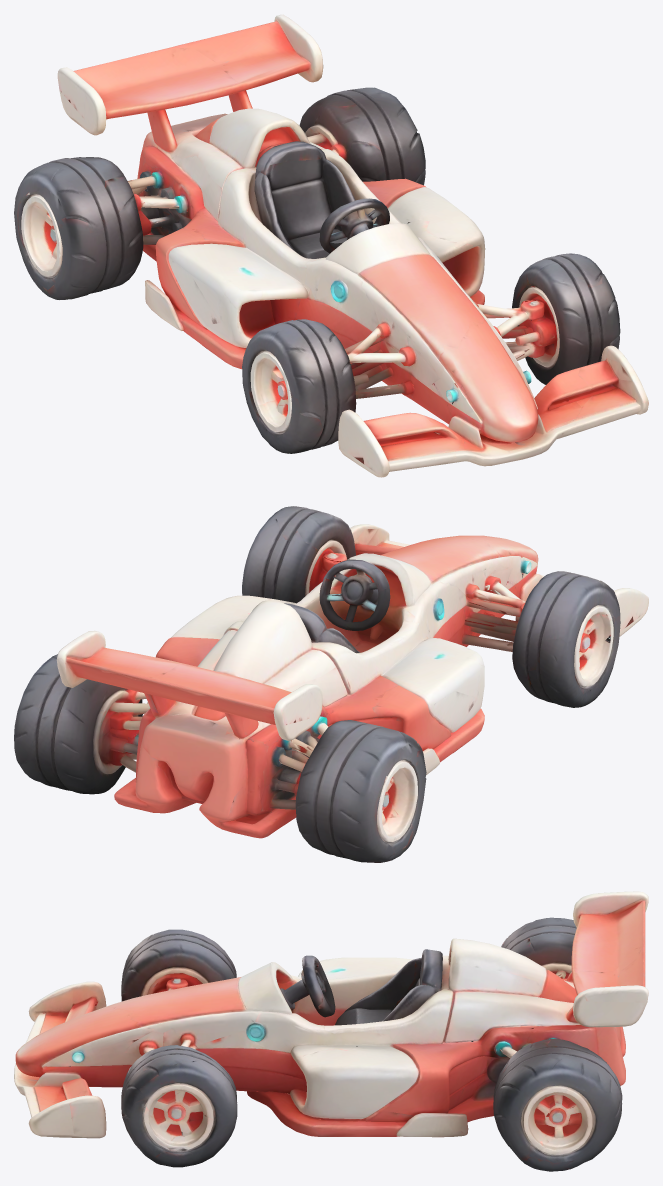
Rendered from comet.glb.
3 views of the same model, one above another, from view 1: azimuth 30°, elevation 25°; view 2: azimuth 150°, elevation 25°; view 3: azimuth 270°, elevation 25° (orthographic). The views are drawn at different scales.
Visible parts, largest first — view 1: model; view 2: model; view 3: model.
Boxes of the visible parts, x1,y1,x2,y2 form: model: [14, 14, 648, 477]; model: [14, 506, 648, 862]; model: [14, 891, 648, 1171].
Size of the model in its own units: 1.11 by 0.5349 by 1.9.
1 material, 1 textured.
